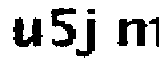5: (47, 3, 78, 48)
j: (77, 5, 100, 59)
m: (113, 14, 160, 51)
u: (10, 16, 43, 51)
